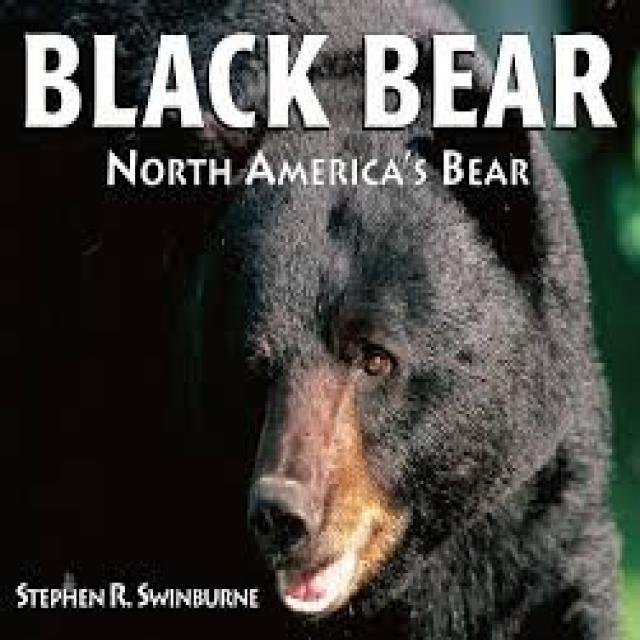bear: (187, 215, 624, 640)
